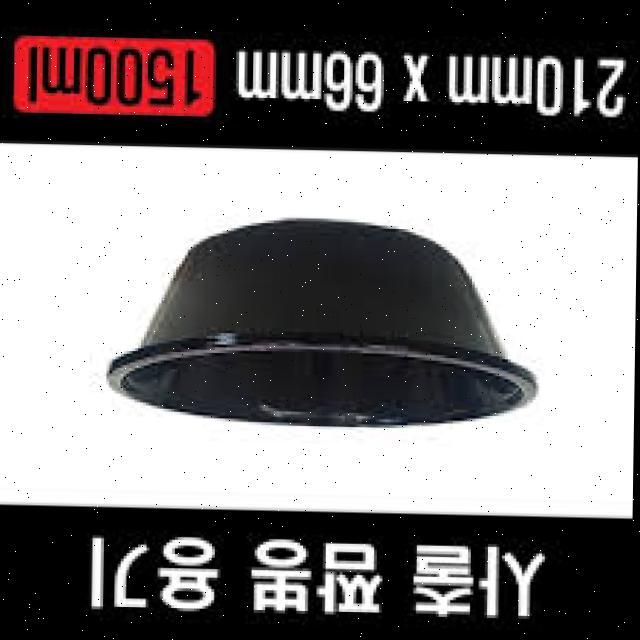disposable: (89, 199, 540, 451)
